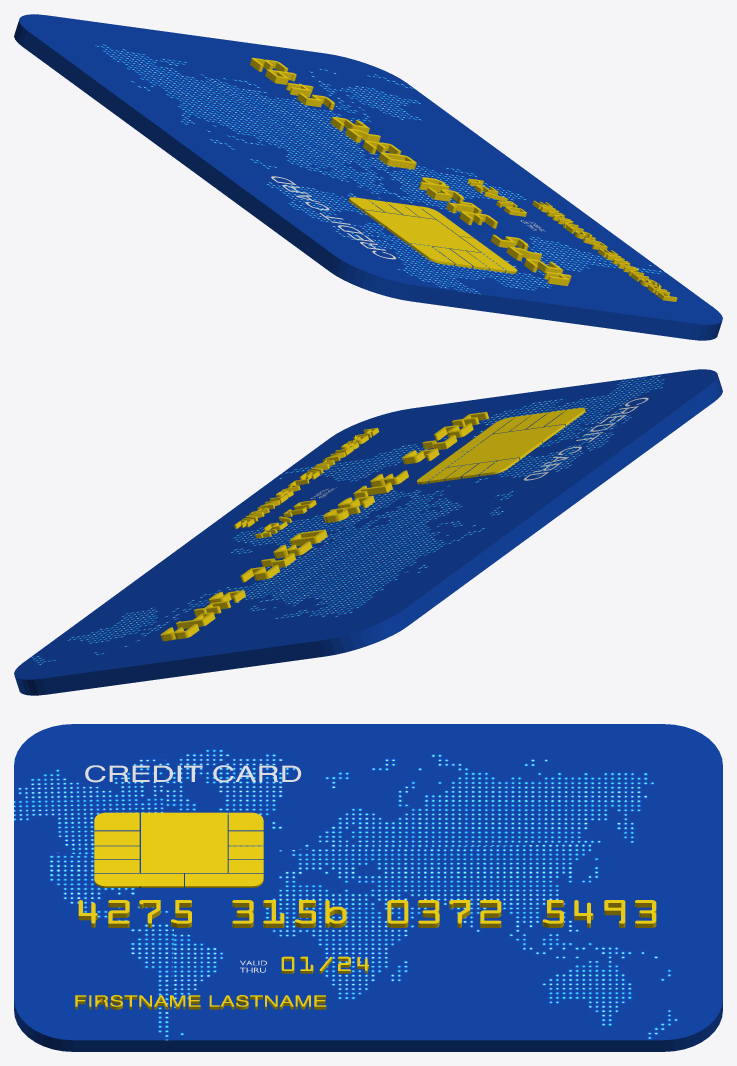
3 renders of one model, top to bottom at view 1: azimuth 30°, elevation 25°; view 2: azimuth 150°, elevation 25°; view 3: azimuth 270°, elevation 25°, orthographic. The views are drawn at different scales.
Visible parts, largest first — view 1: base, id, name, creditcard, date; view 2: base, id, name, creditcard, date; view 3: base, id, name, creditcard, date.
Boxes of the visible parts, <box> form: base: <box>14,14,722,340</box>; id: <box>249,57,571,286</box>; name: <box>532,200,677,301</box>; creditcard: <box>271,176,396,259</box>; date: <box>467,178,526,216</box>; base: <box>14,369,722,695</box>; id: <box>160,411,488,641</box>; name: <box>234,428,379,529</box>; creditcard: <box>523,397,648,480</box>; date: <box>255,500,316,538</box>; base: <box>14,724,722,1051</box>; id: <box>78,900,656,927</box>; name: <box>75,995,326,1009</box>; creditcard: <box>85,765,301,782</box>; date: <box>281,956,368,973</box>.
Bounding box in the file's own units: 0.0514 × 0.0203 × 0.0856.
3 materials, 1 textured.
